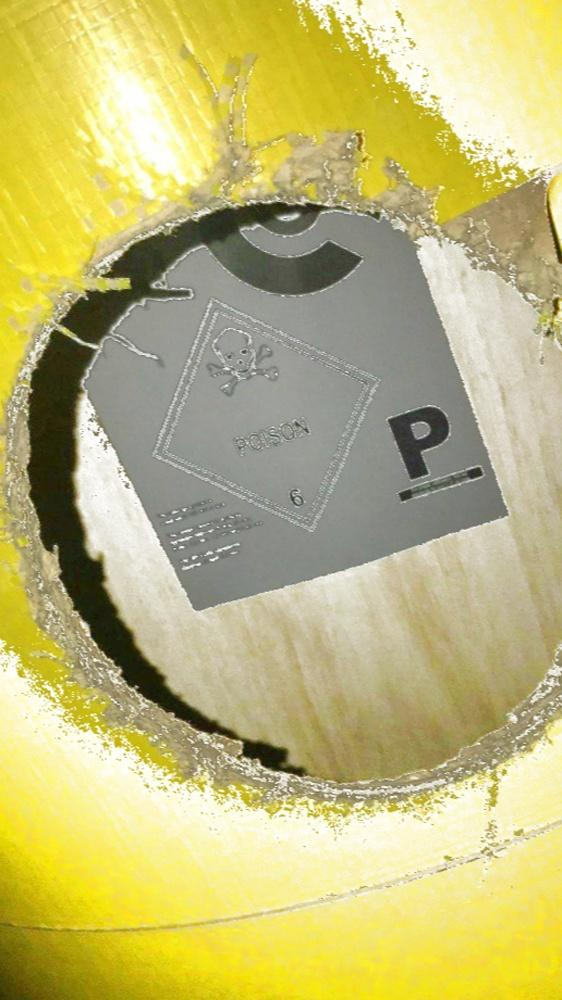poison: (157, 294, 373, 535)
